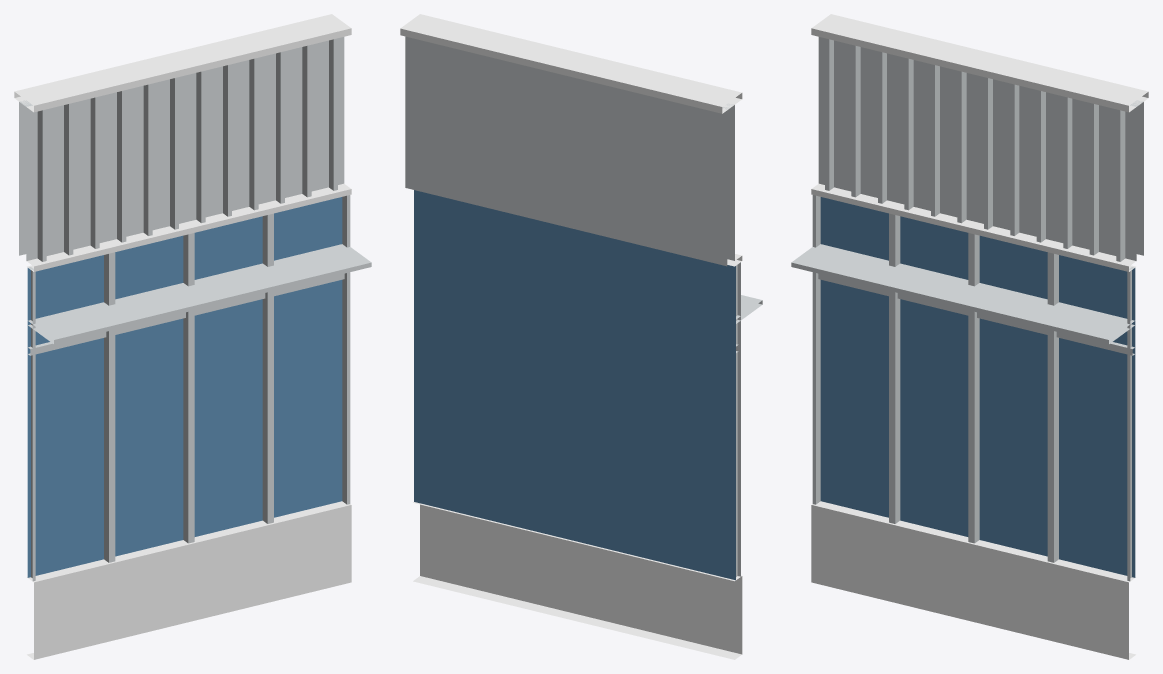
Rendered from top-w1_close.fbx.
3 views of the same model, side by side, from view 1: azimuth 30°, elevation 25°; view 2: azimuth 150°, elevation 25°; view 3: azimuth 330°, elevation 25° (orthographic).
Parts seen in each view (by area): view 1: a2009/400/top-w1_close; view 2: a2009/400/top-w1_close; view 3: a2009/400/top-w1_close.
Part boxes in pixels (<box>): a2009/400/top-w1_close: <box>14,14,371,659</box>; a2009/400/top-w1_close: <box>400,14,762,659</box>; a2009/400/top-w1_close: <box>791,14,1148,659</box>.
Bounding box in the file's own units: 3 × 5 × 0.65.
